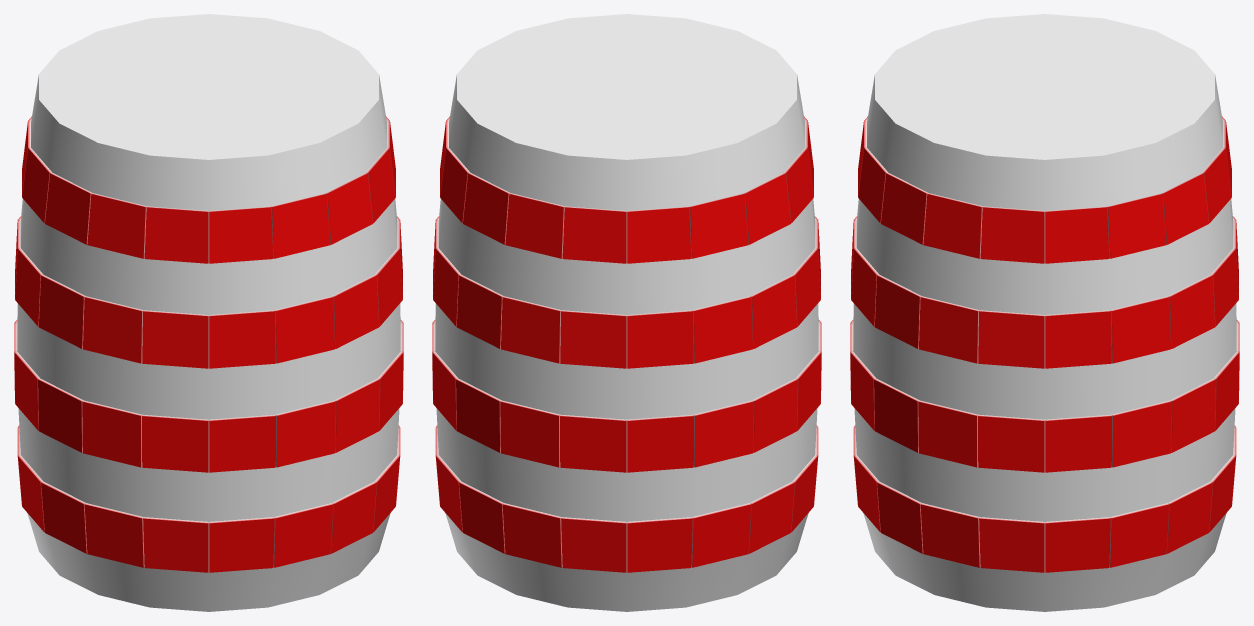
The model's file is barrel.FBX.
The picture shows the model from 3 angles, left to right: view 1: azimuth 30°, elevation 25°; view 2: azimuth 150°, elevation 25°; view 3: azimuth 270°, elevation 25°; orthographic projection.
Parts seen in each view (by area): view 1: Cylinder001; view 2: Cylinder001; view 3: Cylinder001.
Boxes of the visible parts, <box> form: Cylinder001: <box>14,14,403,611</box>; Cylinder001: <box>432,14,821,611</box>; Cylinder001: <box>850,14,1239,611</box>.
Bounding box in the file's own units: 18.12 × 22.85 × 17.85.
